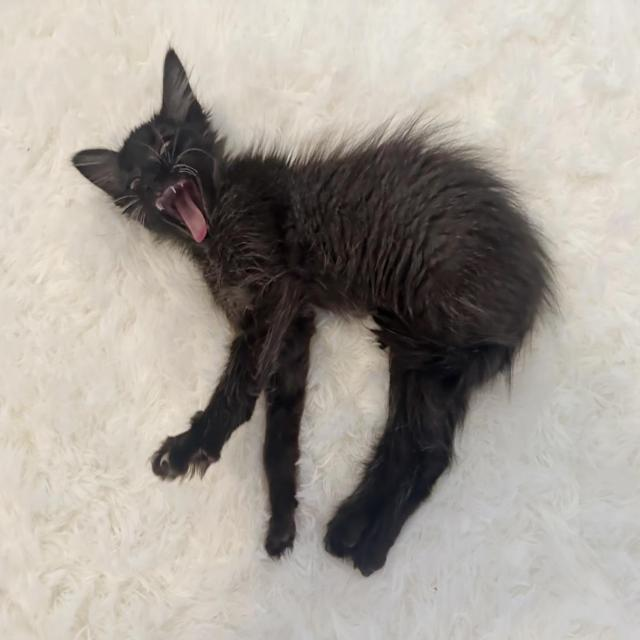domestic_long_hair_cat: (67, 44, 240, 264)
